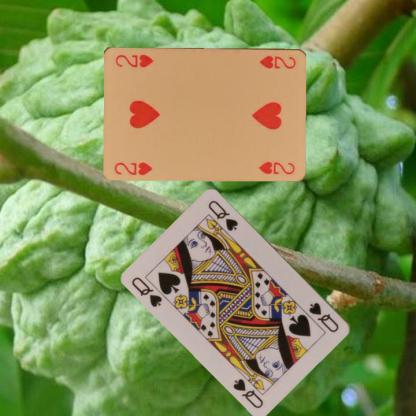2h: (257, 52, 298, 70), (112, 160, 154, 176)
Qs: (306, 299, 341, 334), (129, 274, 164, 308)
